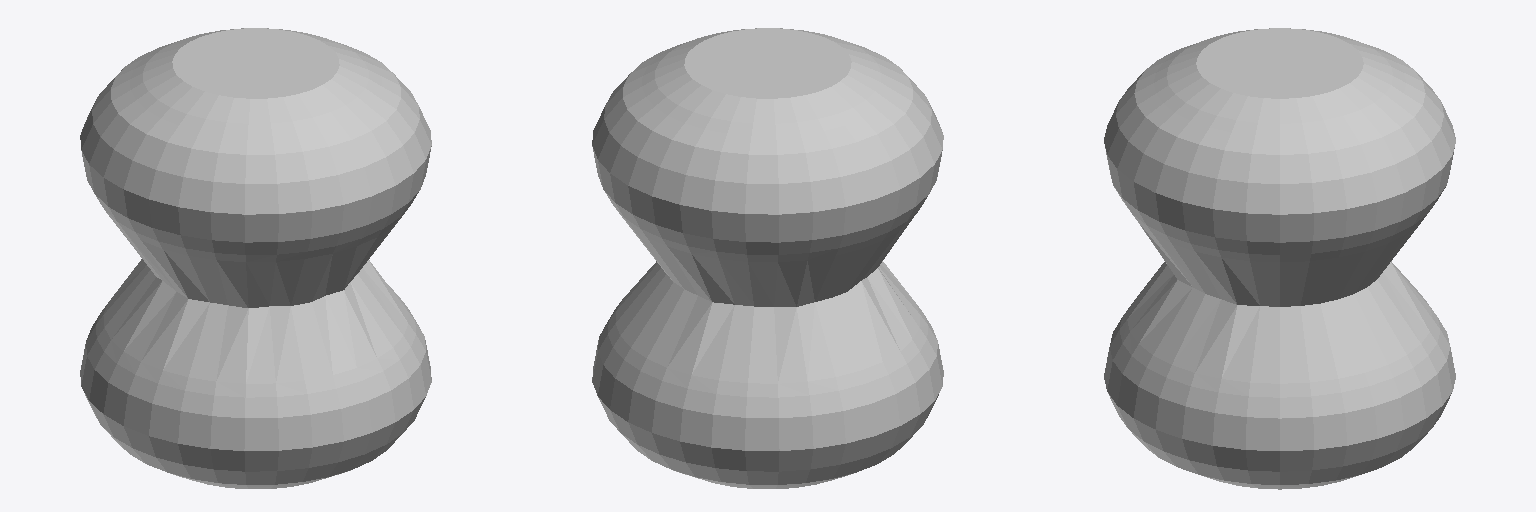
Rendered from hourglass.obj.
3 views of the same model, side by side, from view 1: azimuth 30°, elevation 25°; view 2: azimuth 150°, elevation 25°; view 3: azimuth 270°, elevation 25° (orthographic).
Visible parts, largest first — view 1: Cone; view 2: Cone; view 3: Cone.
Boxes of the visible parts, x1,y1,x2,y2 form: Cone: [80, 28, 431, 488]; Cone: [592, 28, 943, 488]; Cone: [1104, 28, 1455, 489].
Size of the model in its own units: 2.61 by 3.15 by 2.61.